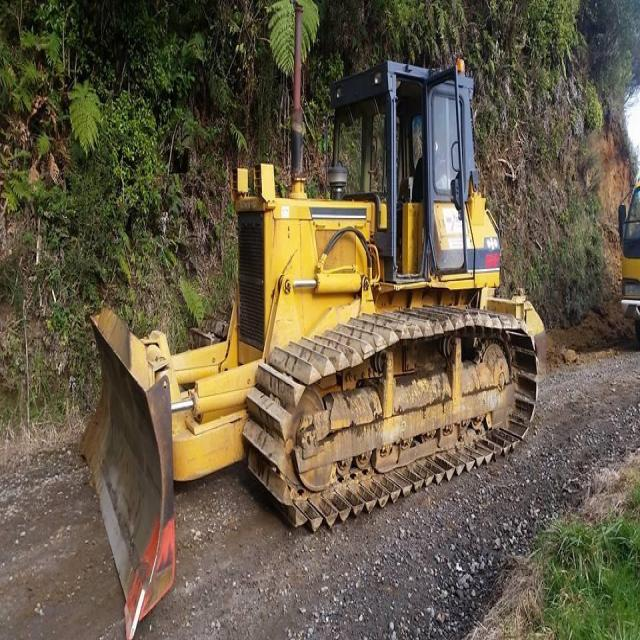Bulldozer: (74, 40, 564, 639)
